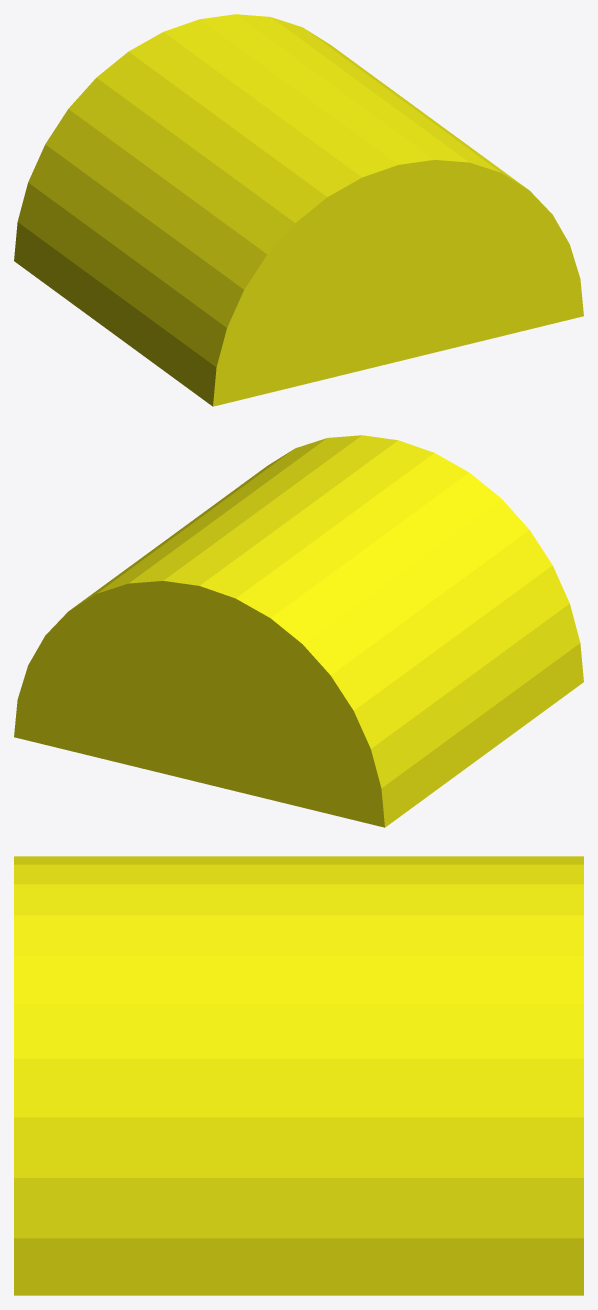
The model's file is Lvl 6 15.fbx.
The picture shows the model from 3 angles, top to bottom: view 1: azimuth 30°, elevation 25°; view 2: azimuth 150°, elevation 25°; view 3: azimuth 270°, elevation 25°; orthographic projection. The views are drawn at different scales.
Visible parts, largest first — view 1: Cylinder.020; view 2: Cylinder.020; view 3: Cylinder.020.
Part boxes in pixels (left/top/right/bottom): Cylinder.020: left=14, top=14, right=583, bottom=406; Cylinder.020: left=14, top=435, right=583, bottom=827; Cylinder.020: left=14, top=856, right=583, bottom=1295.
Size of the model in its own units: 214 by 108 by 199.
